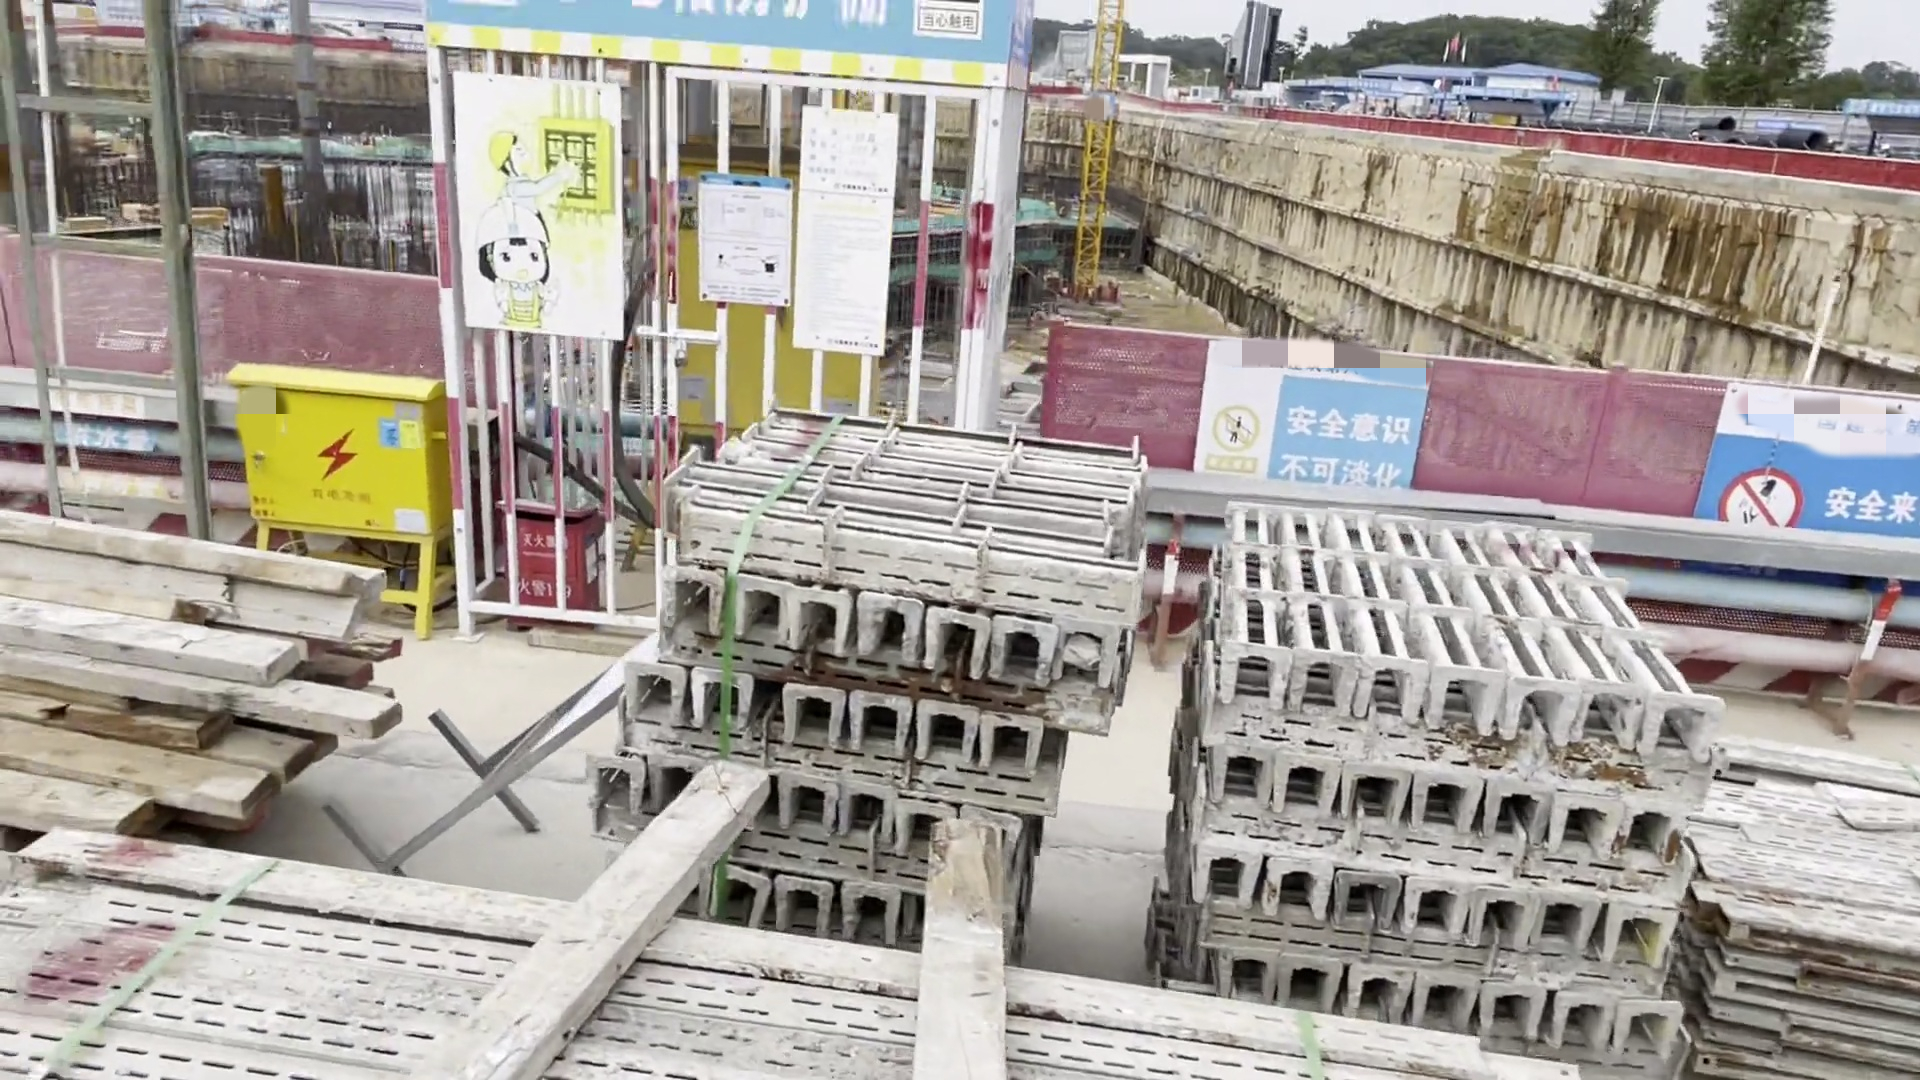ebox: (642, 141, 882, 430), (224, 355, 448, 640)
fence: (1031, 303, 1920, 721), (4, 223, 451, 530)
slogan: (1687, 377, 1920, 546), (1188, 332, 1431, 488), (909, 1, 984, 37)
wood: (1, 512, 411, 841)
